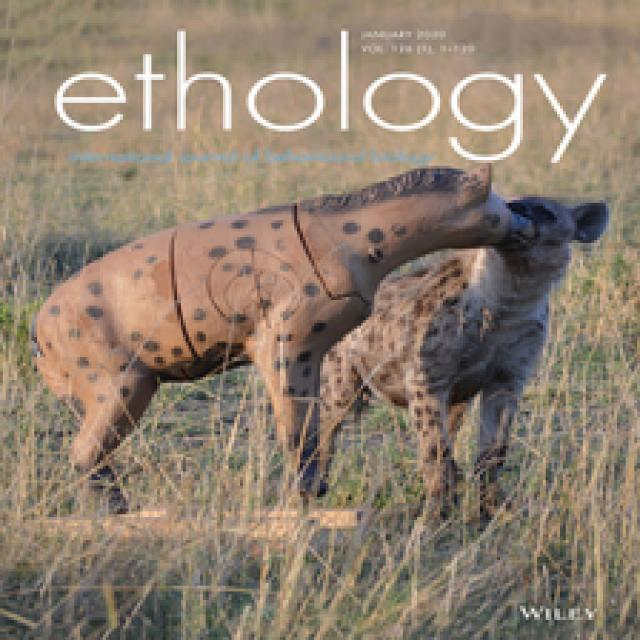hyena: (35, 173, 578, 538), (368, 187, 620, 500)
